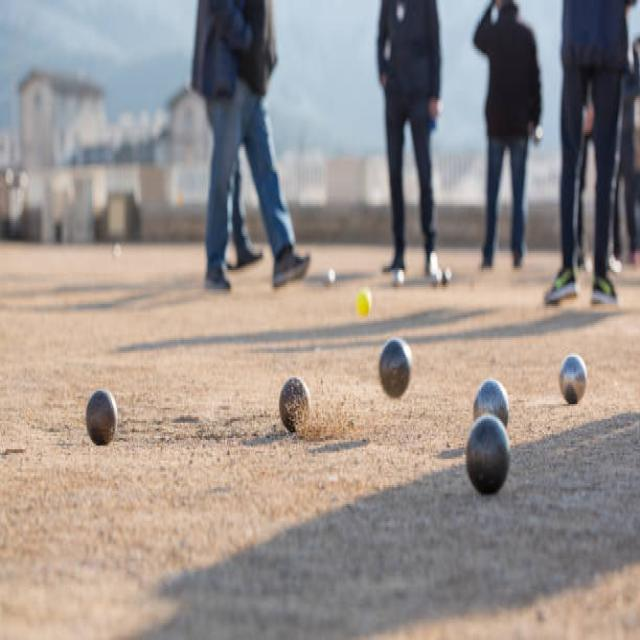hatball: (352, 286, 374, 321)
petanque: (460, 406, 514, 503), (362, 331, 421, 402), (75, 379, 127, 458), (466, 371, 521, 429), (555, 346, 596, 413), (279, 376, 312, 436)
